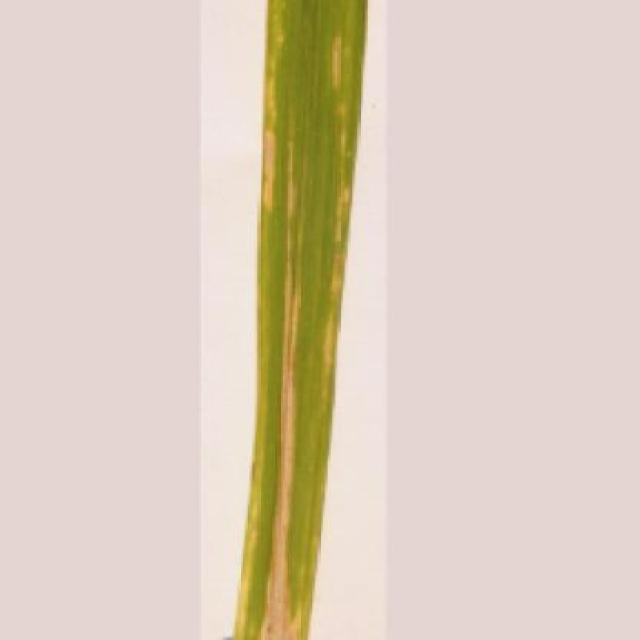Brown_Spot: (228, 0, 370, 640)
